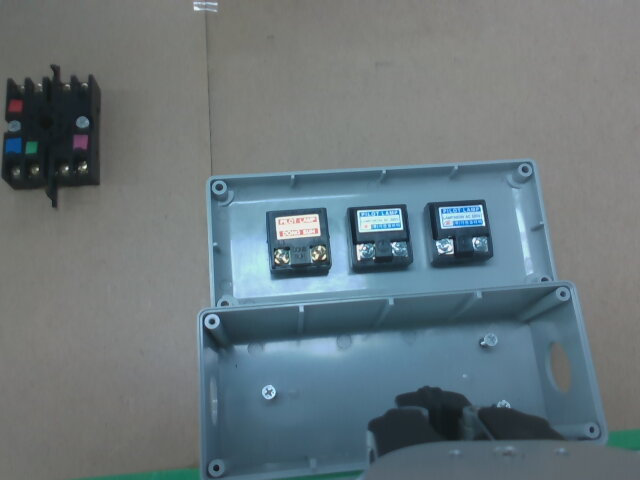L1(1): (274, 249, 290, 265)
L1(2): (310, 246, 326, 261)
L2(1): (357, 243, 374, 258)
L2(2): (392, 242, 407, 256)
L3(1): (437, 238, 454, 254)
L3(2): (473, 236, 489, 250)
